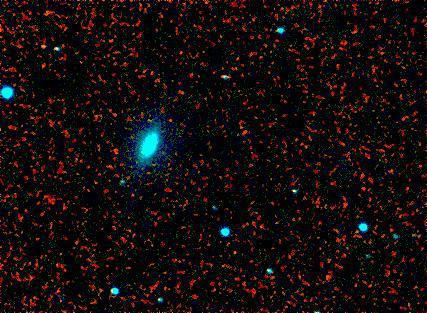star: (29, 29, 59, 59)
